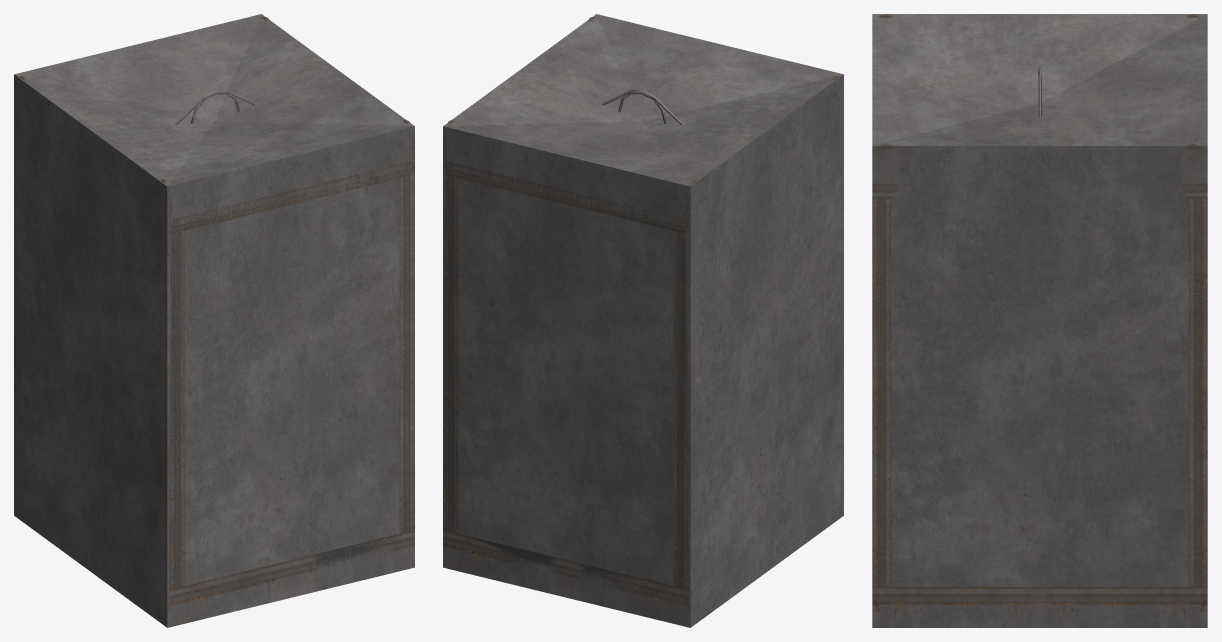
The model's file is ind_gastank_rack.DAE.
3 renders of one model, left to right at view 1: azimuth 30°, elevation 25°; view 2: azimuth 150°, elevation 25°; view 3: azimuth 270°, elevation 25°, orthographic. The views are drawn at different scales.
Visible parts, largest first — view 1: Colmesh-1, ind_gastank_rack240, ind_gastank_rack60; view 2: Colmesh-1, ind_gastank_rack240, ind_gastank_rack60; view 3: Colmesh-1, ind_gastank_rack240.
Boxes of the visible parts, x1,y1,x2,y2 form: Colmesh-1: (14,14,414,627); ind_gastank_rack240: (20,17,414,627); ind_gastank_rack60: (169,162,414,598); Colmesh-1: (443,14,843,627); ind_gastank_rack240: (443,17,837,627); ind_gastank_rack60: (443,161,688,597); Colmesh-1: (872,14,1207,627); ind_gastank_rack240: (872,14,1207,627).
Bounding box in the file's own units: 130 × 140 × 228.
